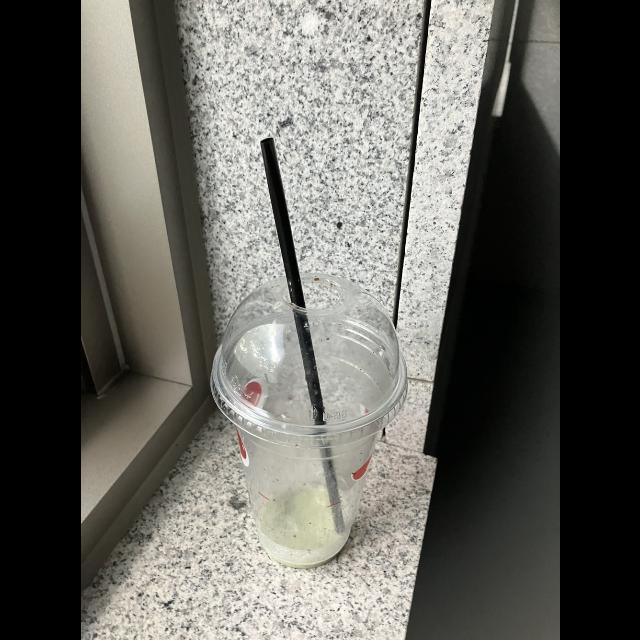plastic_cup: (205, 272, 412, 574)
plastic_cup_lid: (204, 272, 413, 450)
straw: (258, 139, 346, 529)
